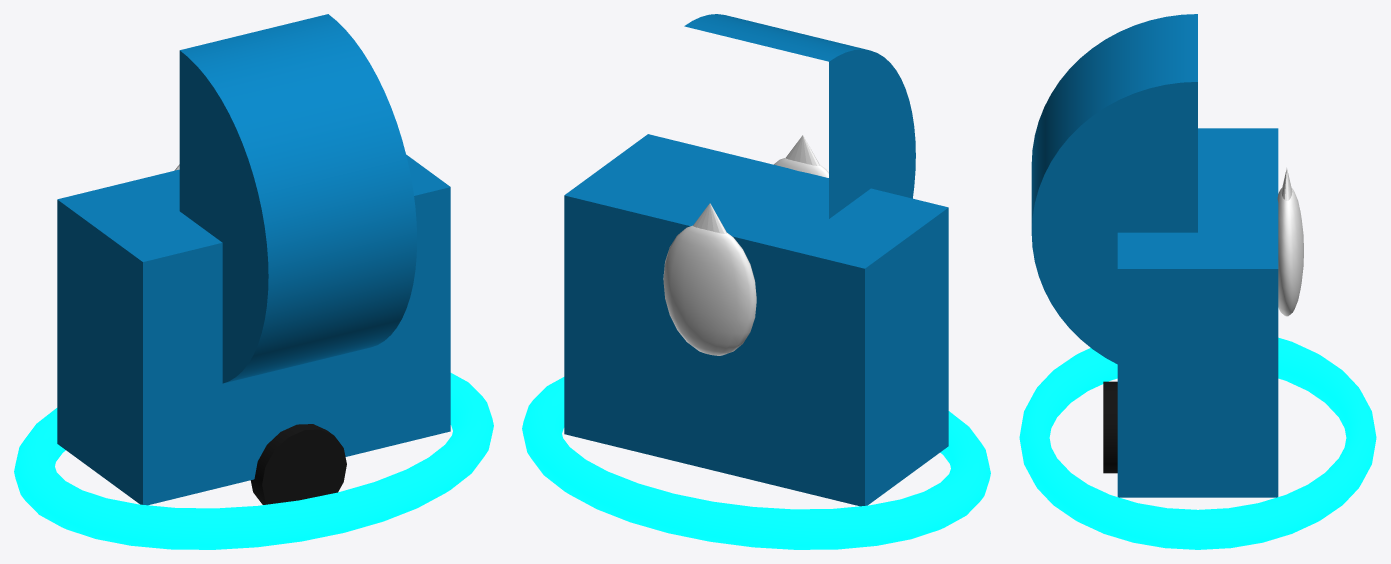
The model's file is water_token.glb.
3 renders of one model, left to right at view 1: azimuth 30°, elevation 25°; view 2: azimuth 150°, elevation 25°; view 3: azimuth 270°, elevation 25°, orthographic. The views are drawn at different scales.
Parts seen in each view (by area): view 1: water_token, selection_glow; view 2: water_token, selection_glow; view 3: water_token, selection_glow.
Part boxes in pixels (bbox=[...]): water_token: bbox=[57, 14, 450, 505]; selection_glow: bbox=[14, 373, 493, 549]; water_token: bbox=[564, 14, 948, 506]; selection_glow: bbox=[522, 377, 990, 549]; water_token: bbox=[1031, 14, 1303, 497]; selection_glow: bbox=[1019, 337, 1376, 549].
Size of the model in its own units: 0.83 by 0.81 by 0.6225.
